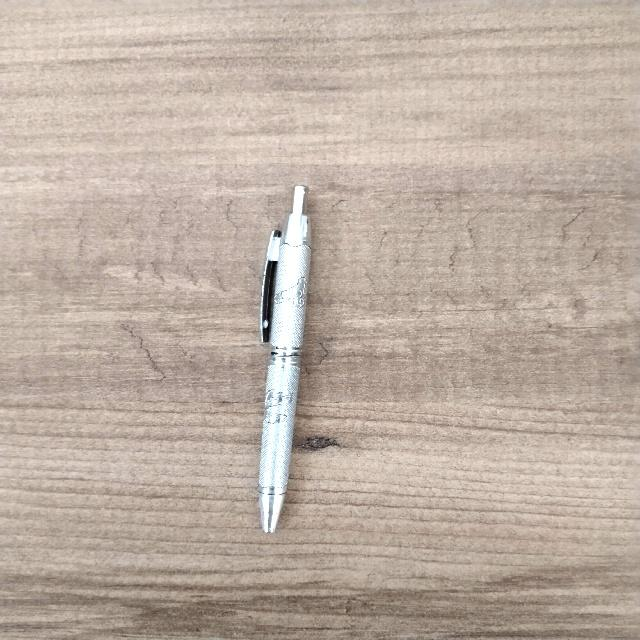signature pen: (259, 186, 310, 532)
